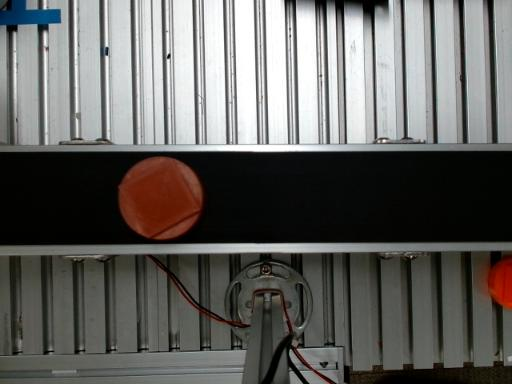Brown_Waper: (118, 157, 203, 239)
Square: (120, 157, 202, 238)
